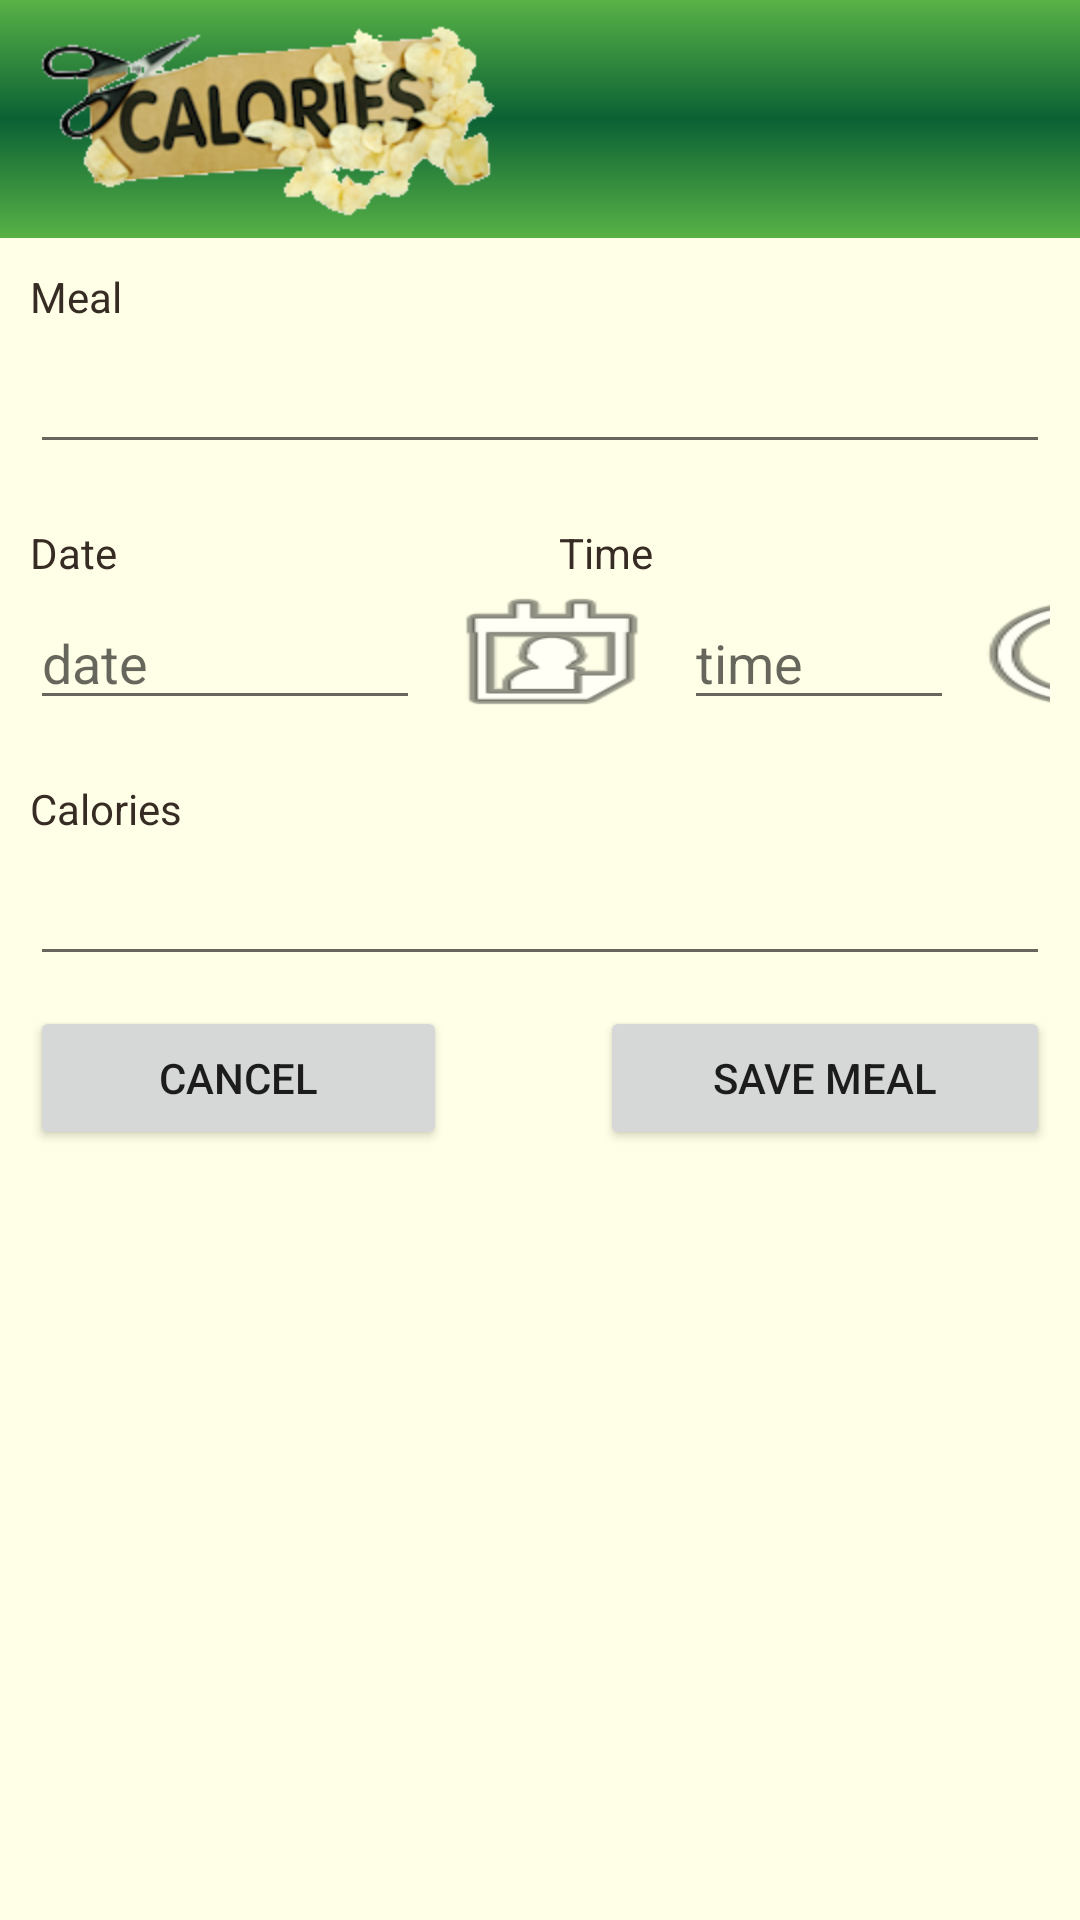

Locate icon controls on the screen. Image size 1080x1920, boxes as {"left": x1, "top": y1, "right": x2, "bottom": y2}.
calendar: {"left": 466, "top": 598, "right": 638, "bottom": 705}
